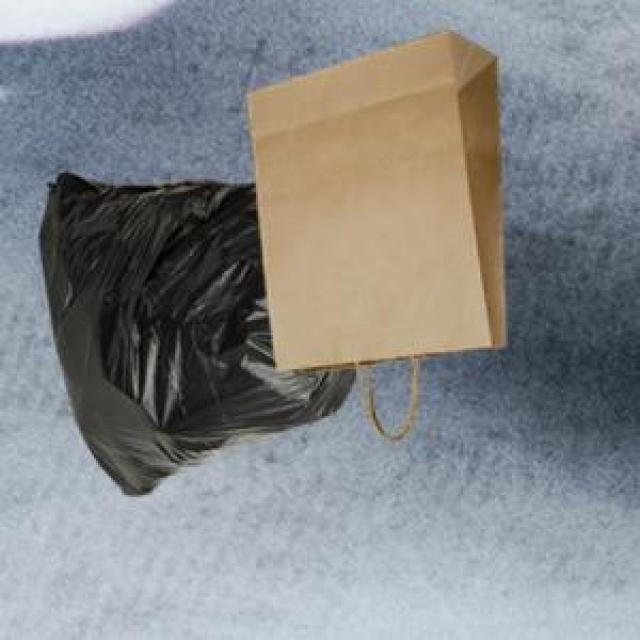miscellaneous trash: (36, 169, 354, 493)
paper: (243, 26, 501, 435)
